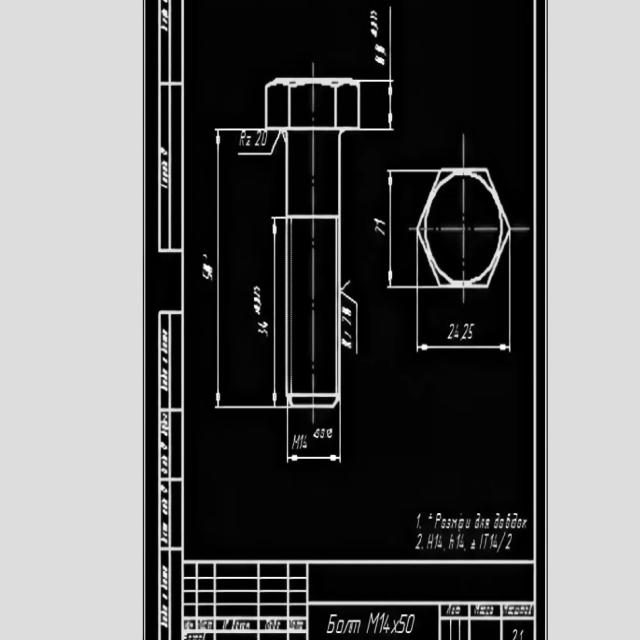marking_line: (210, 127, 264, 411), (414, 290, 513, 354), (384, 168, 417, 291), (268, 215, 284, 412), (286, 411, 343, 463), (362, 75, 395, 136)
numeric: (406, 615, 415, 634), (504, 532, 513, 550), (398, 615, 406, 635), (383, 616, 391, 635), (380, 612, 386, 637), (260, 131, 268, 147), (461, 322, 468, 340), (375, 226, 386, 237), (253, 131, 261, 146), (415, 513, 422, 528), (447, 323, 453, 339), (416, 534, 422, 550), (468, 322, 473, 341), (373, 218, 386, 225), (478, 534, 484, 549), (492, 534, 498, 548), (511, 628, 518, 640), (344, 330, 352, 339), (314, 428, 321, 438), (519, 629, 525, 640), (371, 21, 379, 29), (299, 434, 303, 449), (302, 436, 307, 448), (320, 429, 325, 440), (490, 534, 494, 547), (371, 26, 376, 36), (371, 8, 377, 16), (370, 16, 378, 21)
special_symbol: (342, 279, 359, 355), (386, 5, 392, 80), (391, 619, 399, 635), (471, 540, 475, 550)
